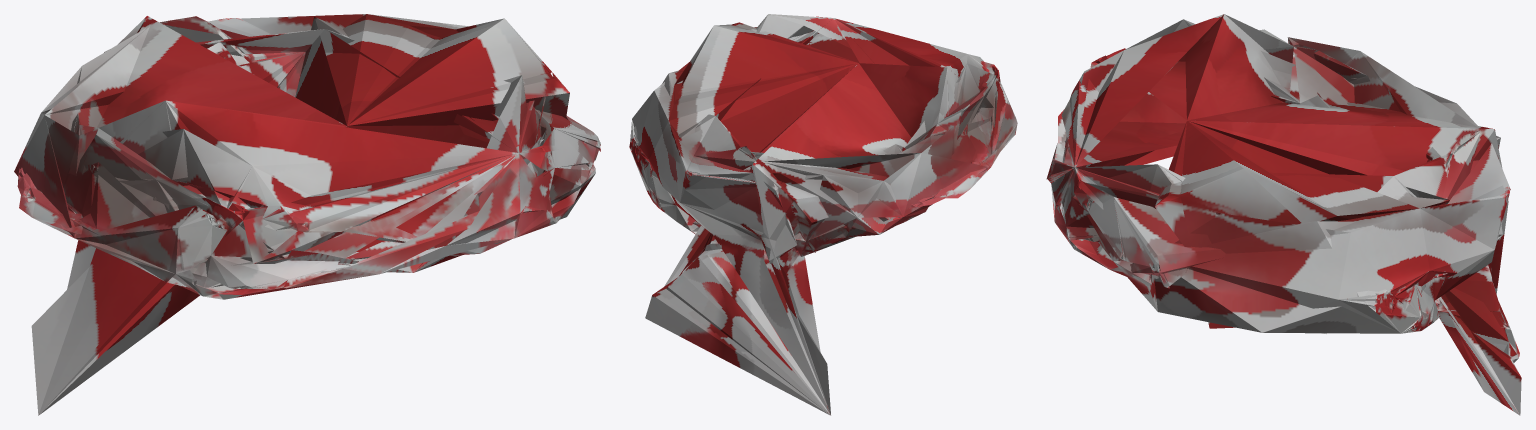
The picture shows the model from 3 angles, left to right: view 1: azimuth 30°, elevation 25°; view 2: azimuth 150°, elevation 25°; view 3: azimuth 270°, elevation 25°; orthographic projection. The views are drawn at different scales.
Bounding box in the file's own units: 0.8486 × 0.694 × 0.814.
Materials: 1 (1 with a texture image).
